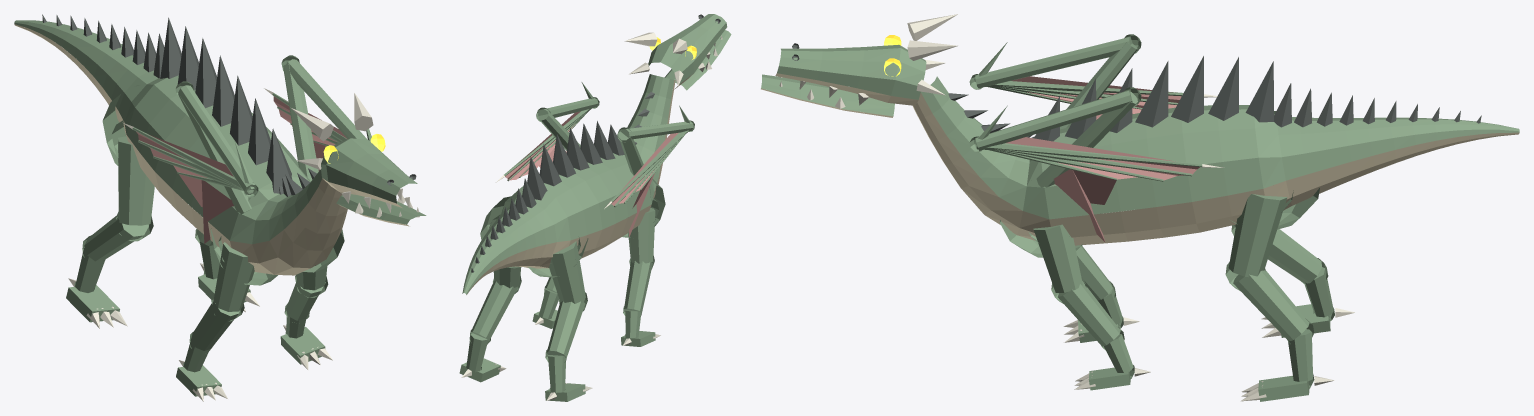
File: dragon-hatchling.glb
3 views of the same model, side by side, from view 1: azimuth 30°, elevation 25°; view 2: azimuth 150°, elevation 25°; view 3: azimuth 270°, elevation 25° (orthographic). The views are drawn at different scales.
Parts seen in each view (by area): view 1: dragon-hatchling-standing; view 2: dragon-hatchling-standing; view 3: dragon-hatchling-standing.
Boxes of the visible parts, left/top/right/bottom form: dragon-hatchling-standing: left=14, top=14, right=426, bottom=401; dragon-hatchling-standing: left=459, top=14, right=731, bottom=401; dragon-hatchling-standing: left=761, top=14, right=1519, bottom=401.
Bounding box in the file's own units: 0.1436 × 0.3002 × 0.6097.
